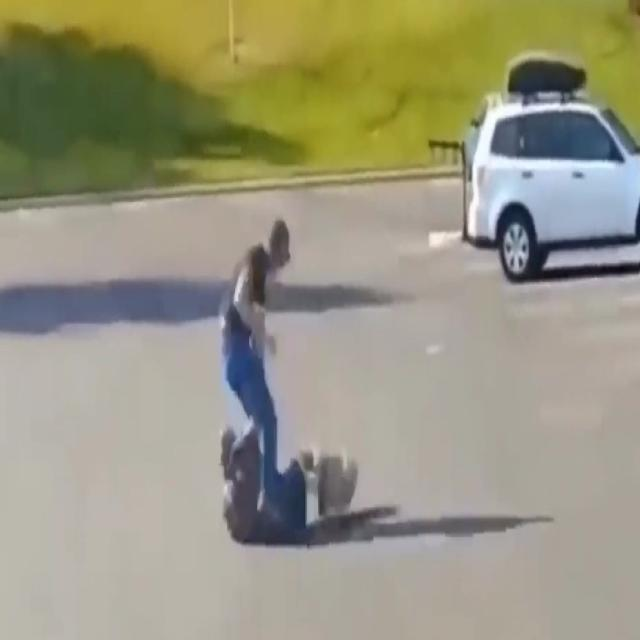fight: (207, 184, 368, 562)
